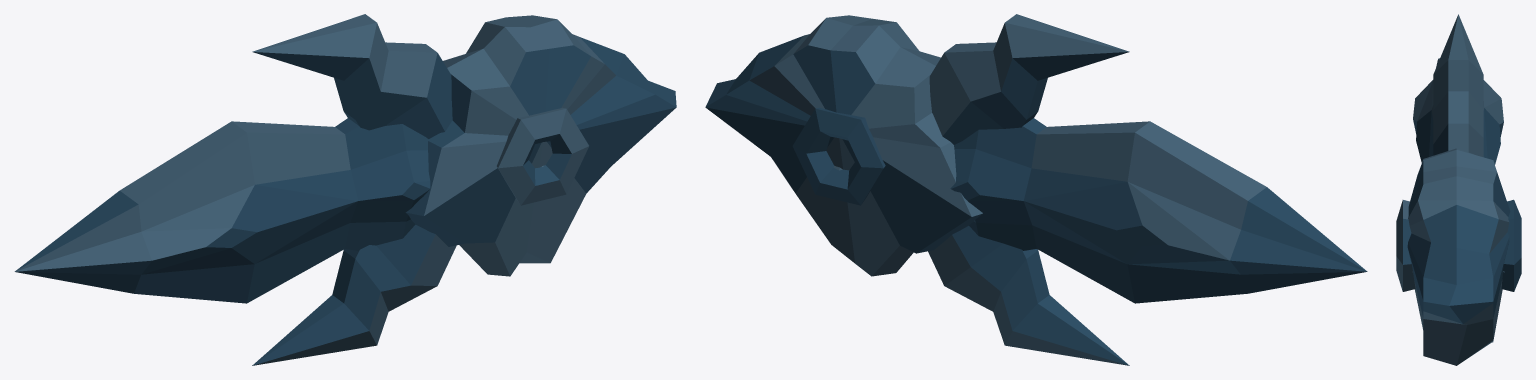
The model's file is Wampa_Spike_v2.fbx.
3 renders of one model, left to right at view 1: azimuth 30°, elevation 25°; view 2: azimuth 150°, elevation 25°; view 3: azimuth 270°, elevation 25°, orthographic. The views are drawn at different scales.
Visible parts, largest first — view 1: Wampa_Spike; view 2: Wampa_Spike; view 3: Wampa_Spike.
Part boxes in pixels (x1,y1,x2,y2): Wampa_Spike: [14, 14, 676, 365]; Wampa_Spike: [705, 14, 1367, 365]; Wampa_Spike: [1396, 14, 1521, 365].
Size of the model in its own units: 18.1 by 8.51 by 3.5.
